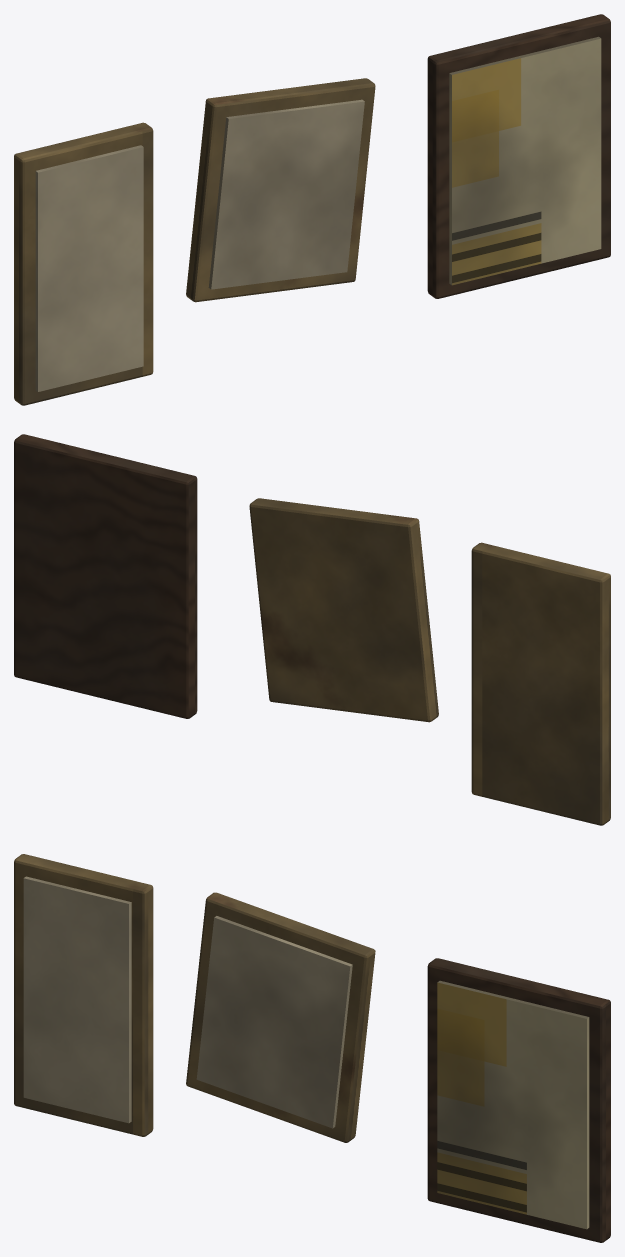
Rendered from L09_wall_photo_frames_v1.glb.
3 views of the same model, one above another, from view 1: azimuth 30°, elevation 25°; view 2: azimuth 150°, elevation 25°; view 3: azimuth 330°, elevation 25° (orthographic).
Parts seen in each view (by area): view 1: L09_wall_photo_frames_v1; view 2: L09_wall_photo_frames_v1; view 3: L09_wall_photo_frames_v1.
Boxes of the visible parts, <box> form: L09_wall_photo_frames_v1: <box>14,14,610,405</box>; L09_wall_photo_frames_v1: <box>14,434,610,825</box>; L09_wall_photo_frames_v1: <box>14,854,610,1242</box>.
Bounding box in the file's own units: 0.8 × 0.3312 × 0.0284.
Materials: 4 (4 with a texture image).
